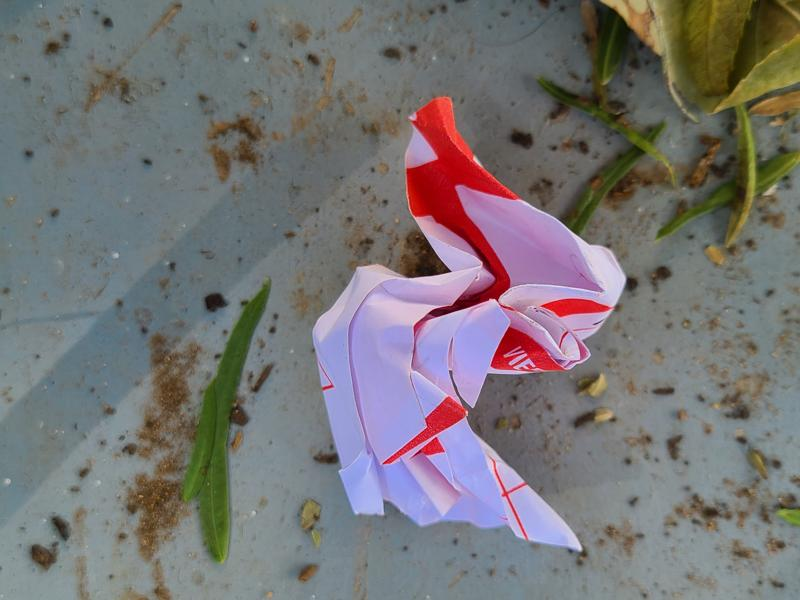papel: (311, 96, 628, 556)
